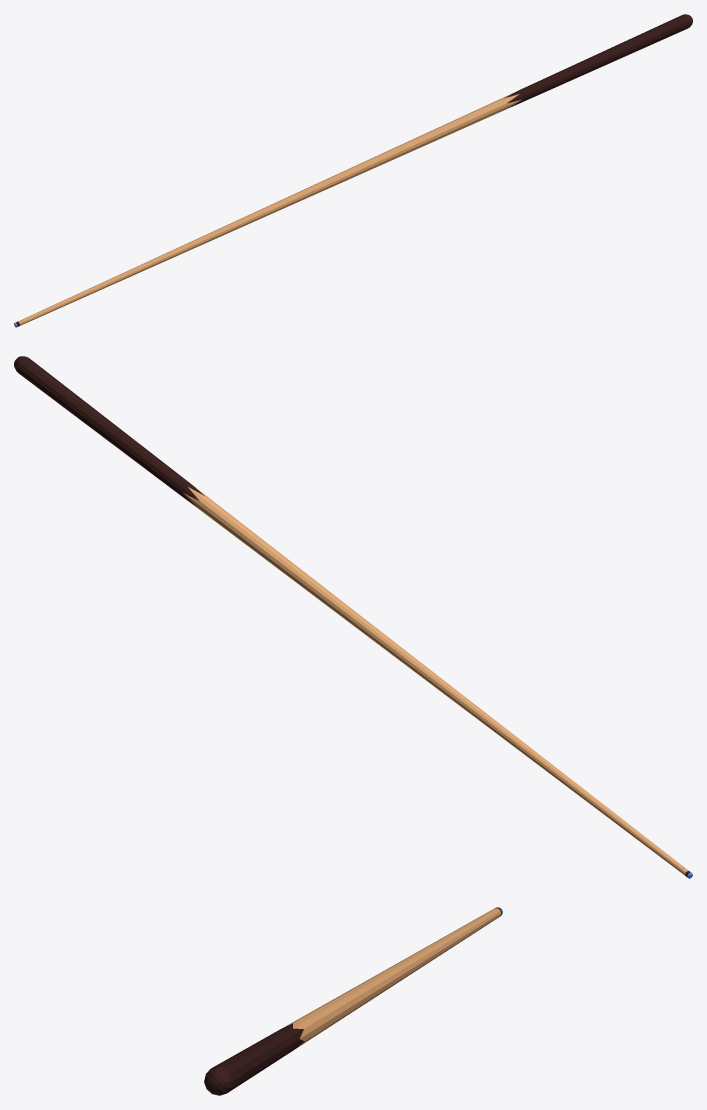
Rendered from Billiard_cue.glb.
The picture shows the model from 3 angles, top to bottom: view 1: azimuth 30°, elevation 25°; view 2: azimuth 150°, elevation 25°; view 3: azimuth 270°, elevation 25°; orthographic projection. The views are drawn at different scales.
Visible parts, largest first — view 1: 球杆; view 2: 球杆; view 3: 球杆.
Part boxes in pixels (bbox=[...]): 球杆: bbox=[14, 14, 692, 327]; 球杆: bbox=[14, 356, 692, 878]; 球杆: bbox=[204, 907, 502, 1095].
Size of the model in its own units: 1.81 by 0.6192 by 0.3862.
